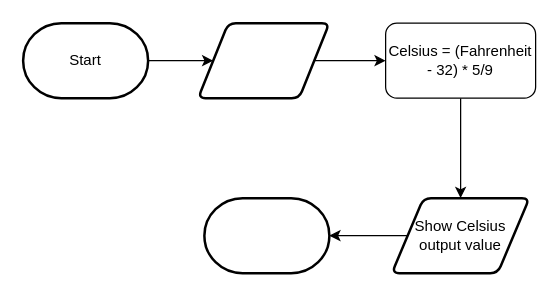
The diagram is 558 pixels wide and 295 high, and some of its shapes have lost their labels. The shapes that lost their labels are listed below. From the top down, each one's centre as x and y in pixels, then its label:
At [263,60]: "Get Fahrenheit input value".
At [266,235]: "Stop".
